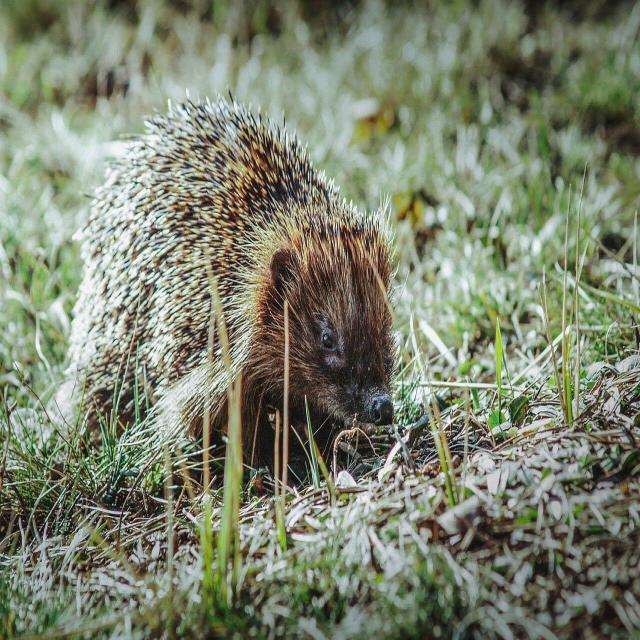hedgehog: (70, 98, 394, 439)
